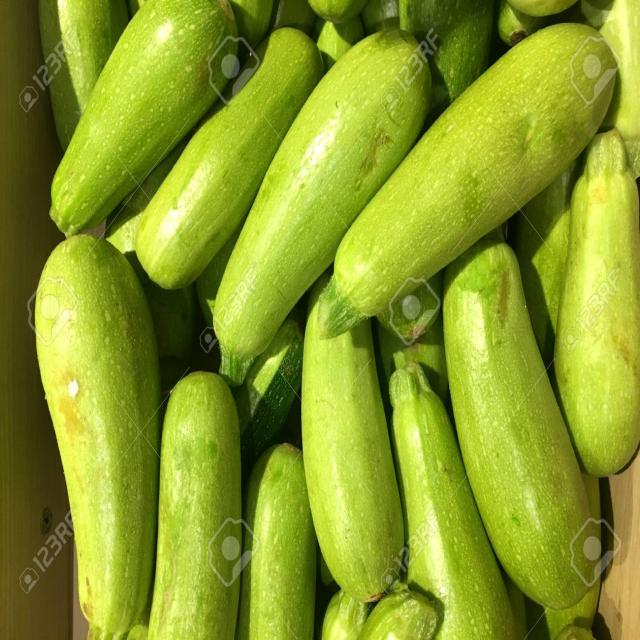Zucchini: (158, 373, 242, 640)
